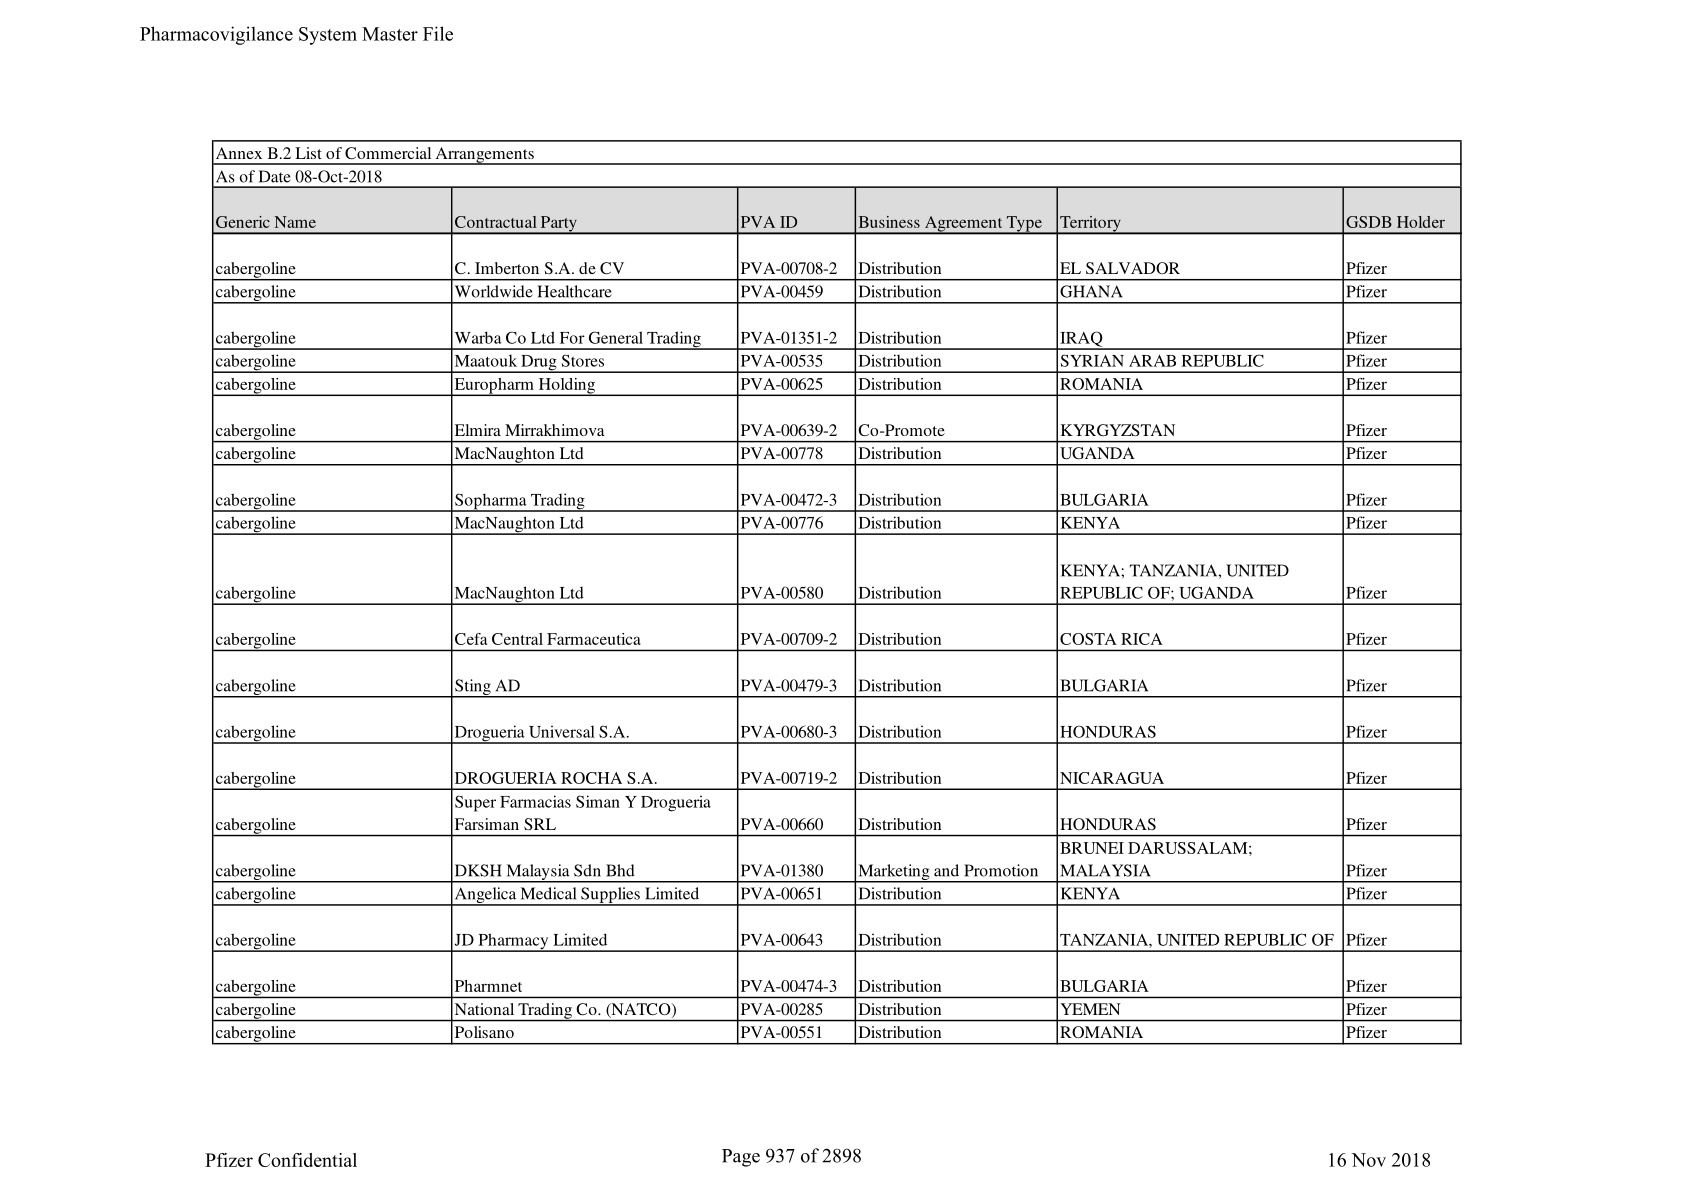merged_cells: (211, 138, 1462, 1045)
